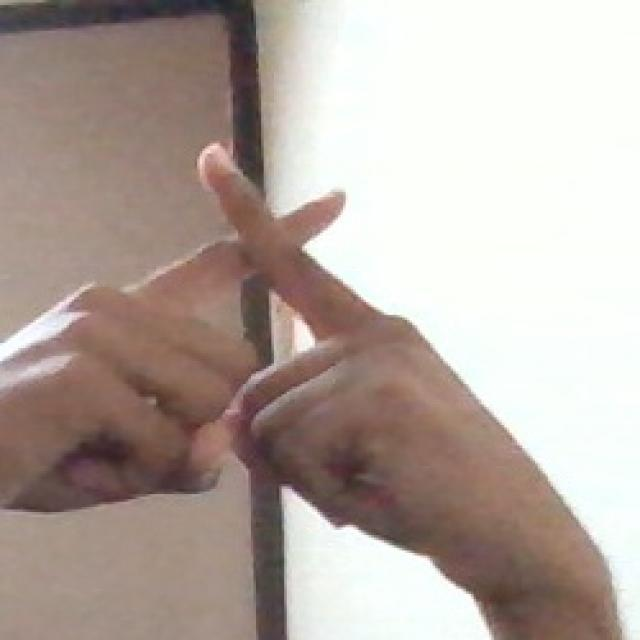Alphabet-X: (9, 112, 571, 562)
